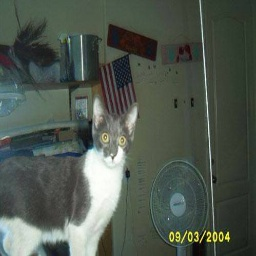cat: (0, 101, 141, 256)
